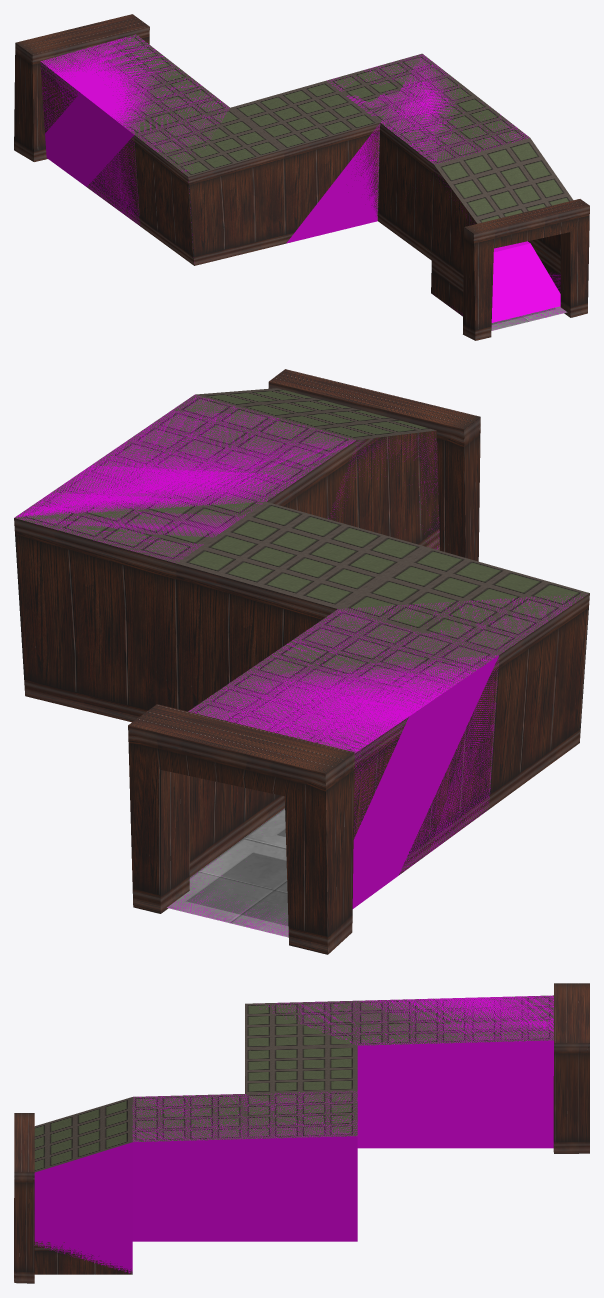
File: office_connector1.fbx
3 renders of one model, top to bottom at view 1: azimuth 30°, elevation 25°; view 2: azimuth 150°, elevation 25°; view 3: azimuth 270°, elevation 25°, orthographic. The views are drawn at different scales.
Parts seen in each view (by area): view 1: wall, polySurface1, DoorFrame_Connector1, DoorFrame_Connector2, stair_collsion, floor; view 2: wall, polySurface1, DoorFrame_Connector2, DoorFrame_Connector1, floor (×2); view 3: polySurface1, wall, DoorFrame_Connector2, DoorFrame_Connector1.
Part boxes in pixels (<box>): wall: <box>40,34,573,316</box>; polySurface1: <box>40,34,560,315</box>; DoorFrame_Connector1: <box>463,199,589,340</box>; DoorFrame_Connector2: <box>14,14,149,161</box>; stair_collsion: <box>491,241,560,322</box>; floor: <box>491,306,566,330</box>; wall: <box>14,388,589,877</box>; polySurface1: <box>14,394,582,908</box>; DoorFrame_Connector2: <box>128,704,354,954</box>; DoorFrame_Connector1: <box>268,369,480,561</box>; floor (×2): <box>167,808,288,937</box>; polySurface1: <box>34,995,553,1273</box>; wall: <box>34,995,553,1274</box>; DoorFrame_Connector2: <box>553,983,589,1153</box>; DoorFrame_Connector1: <box>14,1113,34,1283</box>.
Size of what is drawn, in the model's own units: 48.38 by 21.84 by 76.77.
